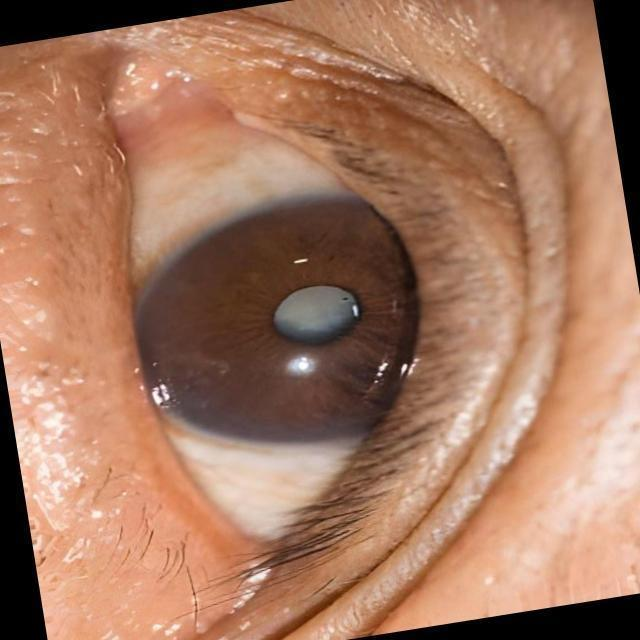Cataract: (180, 180, 442, 452)
